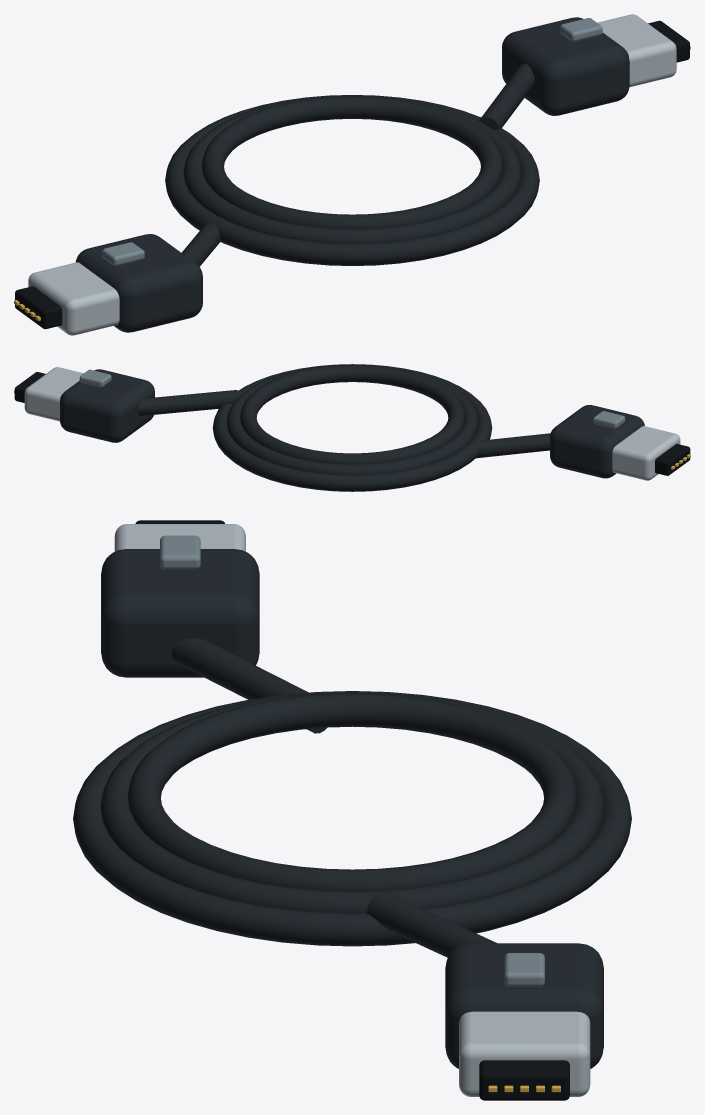
Rendered from displayport-cable.glb.
The picture shows the model from 3 angles, top to bottom: view 1: azimuth 30°, elevation 25°; view 2: azimuth 150°, elevation 25°; view 3: azimuth 270°, elevation 25°; orthographic projection. The views are drawn at different scales.
Parts seen in each view (by area): view 1: Premium braided DisplayPort cable, DisplayPort grip (×2), DisplayPort shell (×2), DisplayPort face (×2), Release latch (×2); view 2: Premium braided DisplayPort cable, DisplayPort grip (×2), DisplayPort shell (×2), DisplayPort face (×2), Release latch (×2); view 3: Premium braided DisplayPort cable, DisplayPort grip (×2), DisplayPort shell (×2), DisplayPort face, Release latch (×2).
Part boxes in pixels (box(x1,y1,x2,y2)): Premium braided DisplayPort cable: box(14, 46, 690, 321); DisplayPort grip (×2): box(75, 17, 629, 332); DisplayPort shell (×2): box(28, 14, 676, 335); DisplayPort face (×2): box(15, 20, 689, 329); Release latch (×2): box(102, 18, 602, 265); Premium braided DisplayPort cable: box(14, 364, 690, 491); DisplayPort grip (×2): box(60, 369, 644, 478); DisplayPort shell (×2): box(24, 367, 680, 480); DisplayPort face (×2): box(14, 372, 690, 475); Release latch (×2): box(79, 369, 625, 428); Premium braided DisplayPort cable: box(73, 638, 631, 1092); DisplayPort grip (×2): box(101, 549, 603, 1068); DisplayPort shell (×2): box(114, 524, 590, 1096); DisplayPort face: box(479, 1060, 569, 1100); Release latch (×2): box(160, 535, 544, 986).
Size of the model in its own units: 2.92 by 0.2375 by 1.23.
